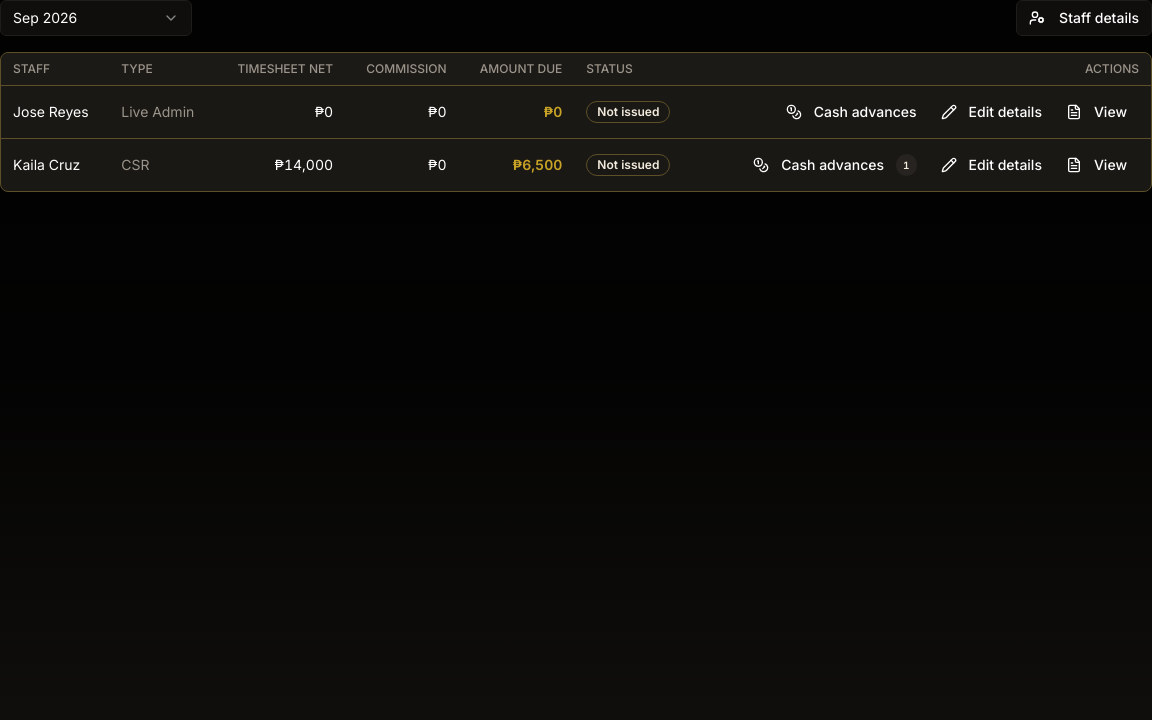
Test: Payslips tab — cash advances, employee ID, cash bond › the draft shows advances, net pay, the first-month cash bond and the amount due
This screenshot has width=1152, height=720.
Click the button "View" in the row of "Kaila Cruz" at (1096, 165), box [1054, 147, 1139, 183]
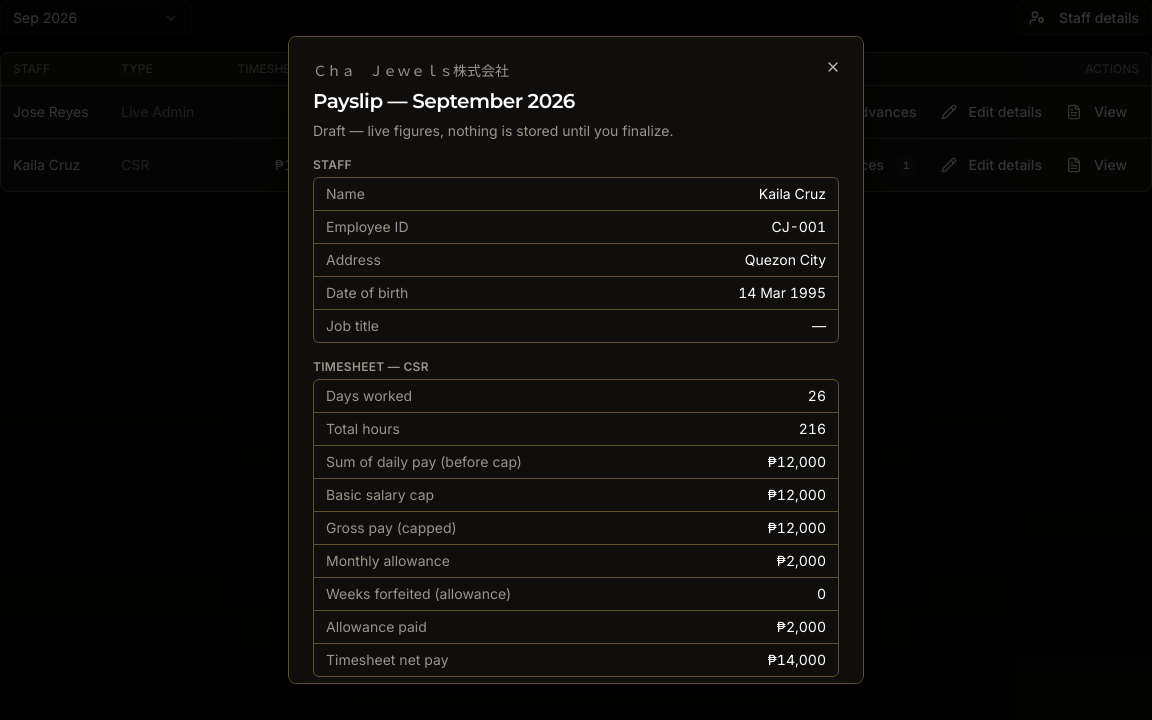
Result: the text "CJ-001" is shown at [772, 217, 826, 237]
